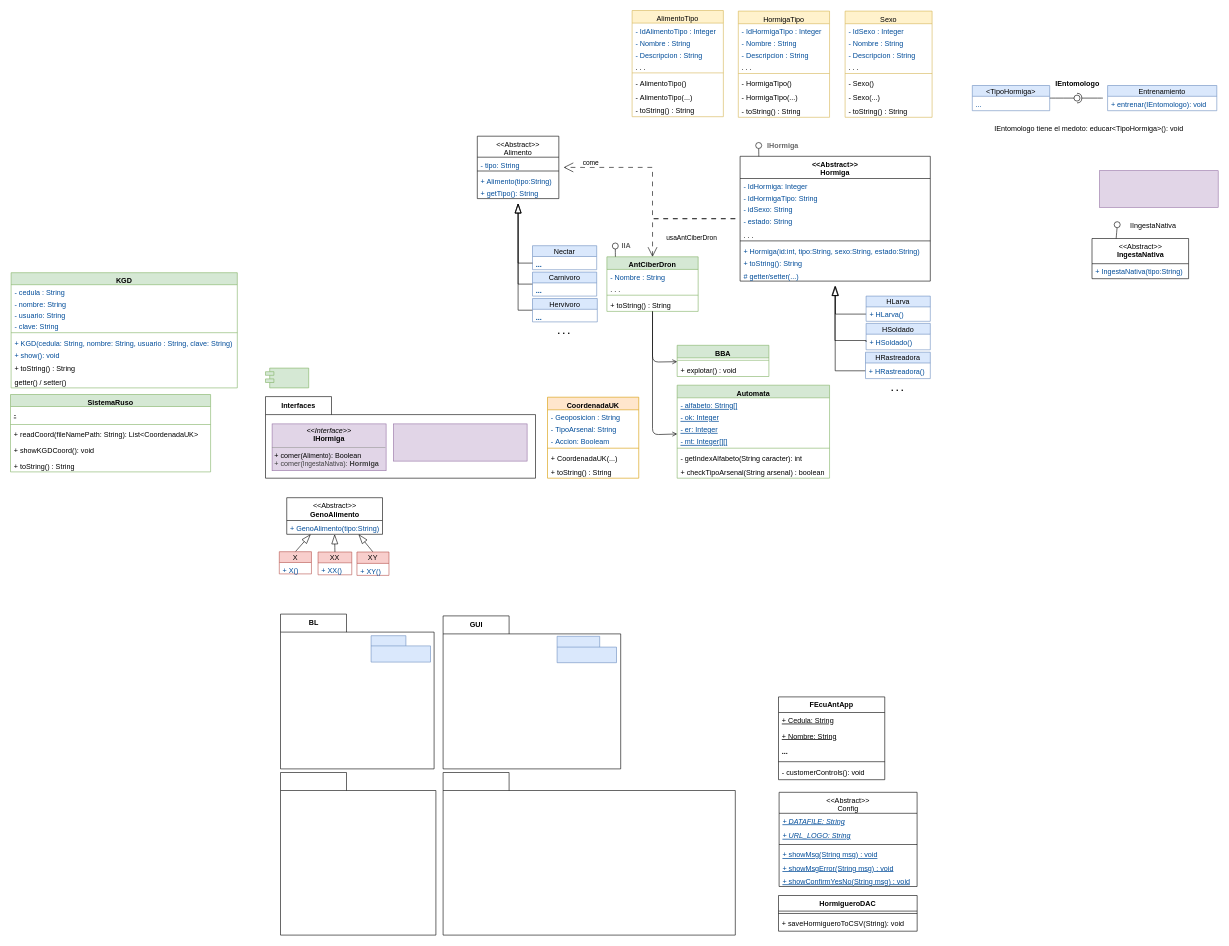
The diagram is 1229 pixels wide and 946 high, and some of its shapes have lost their labels. Each missing label, with the centre of its shape:
"<<Interface>> IIA + buscar (tipoArsenal : String) : Boolean" belongs at (x=460, y=442).
"<<Interface>> IIngestaNativa + inyectar( GenoAlimento ): boolean" belongs at (x=1158, y=188).
"DAC" belongs at (x=358, y=853).
"Entities" belongs at (x=400, y=648).
"Infra" belongs at (x=588, y=853).
"Resource" belongs at (x=586, y=649).
"Tools" belongs at (x=287, y=378).
